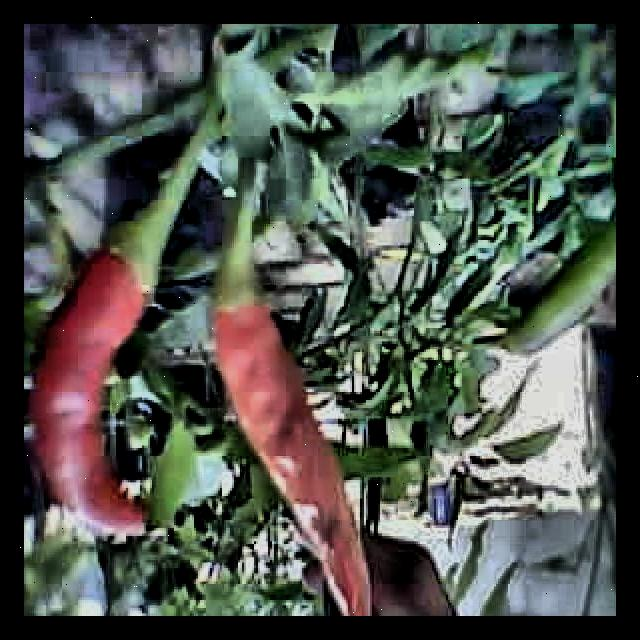Cabai: (210, 262, 394, 616), (29, 228, 176, 563)
